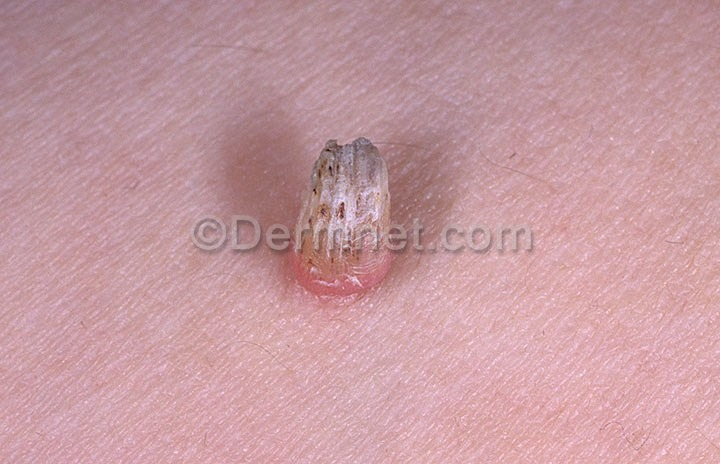Warts: (284, 111, 405, 220)
